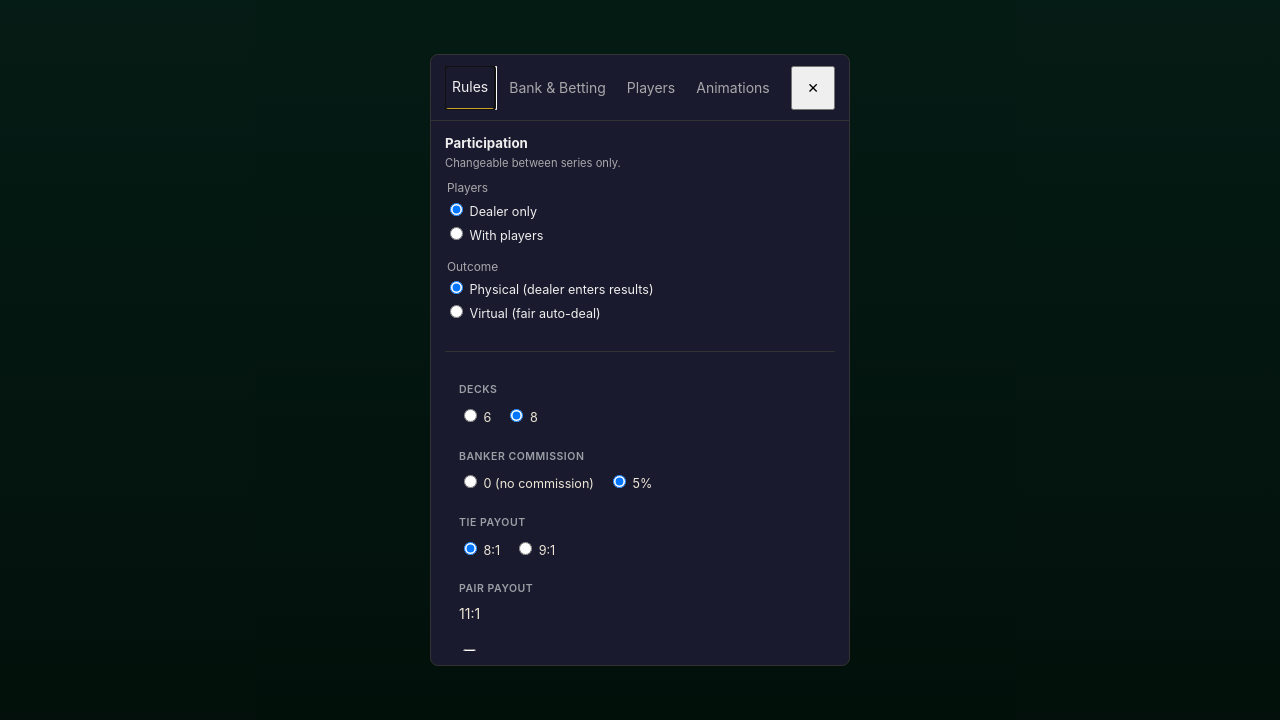
Test: SettingsDialog › shows plain-language helper for max exposure on bank tab
The image size is (1280, 720).
Click the button with test id "tab-bank": (558, 88) [502,66,613,110]
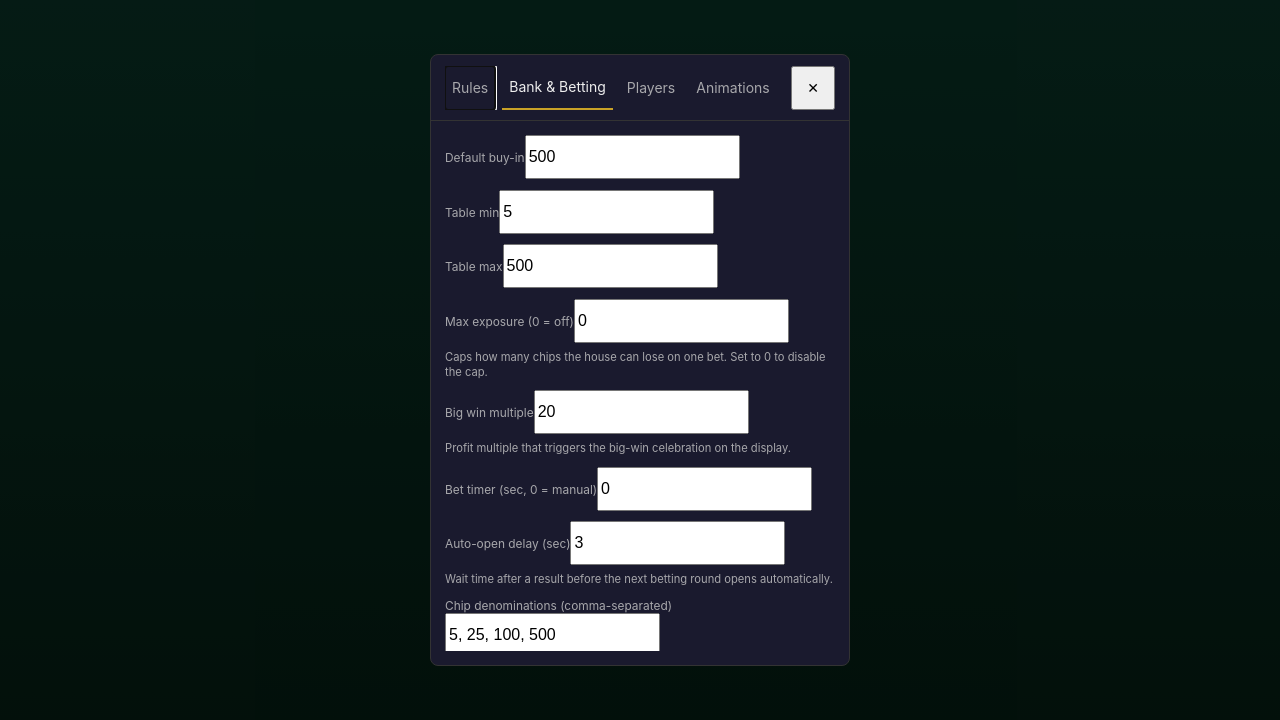
Expected: the text with test id "help-max-exposure" shows "Caps how many chips", [445,350,826,379]
